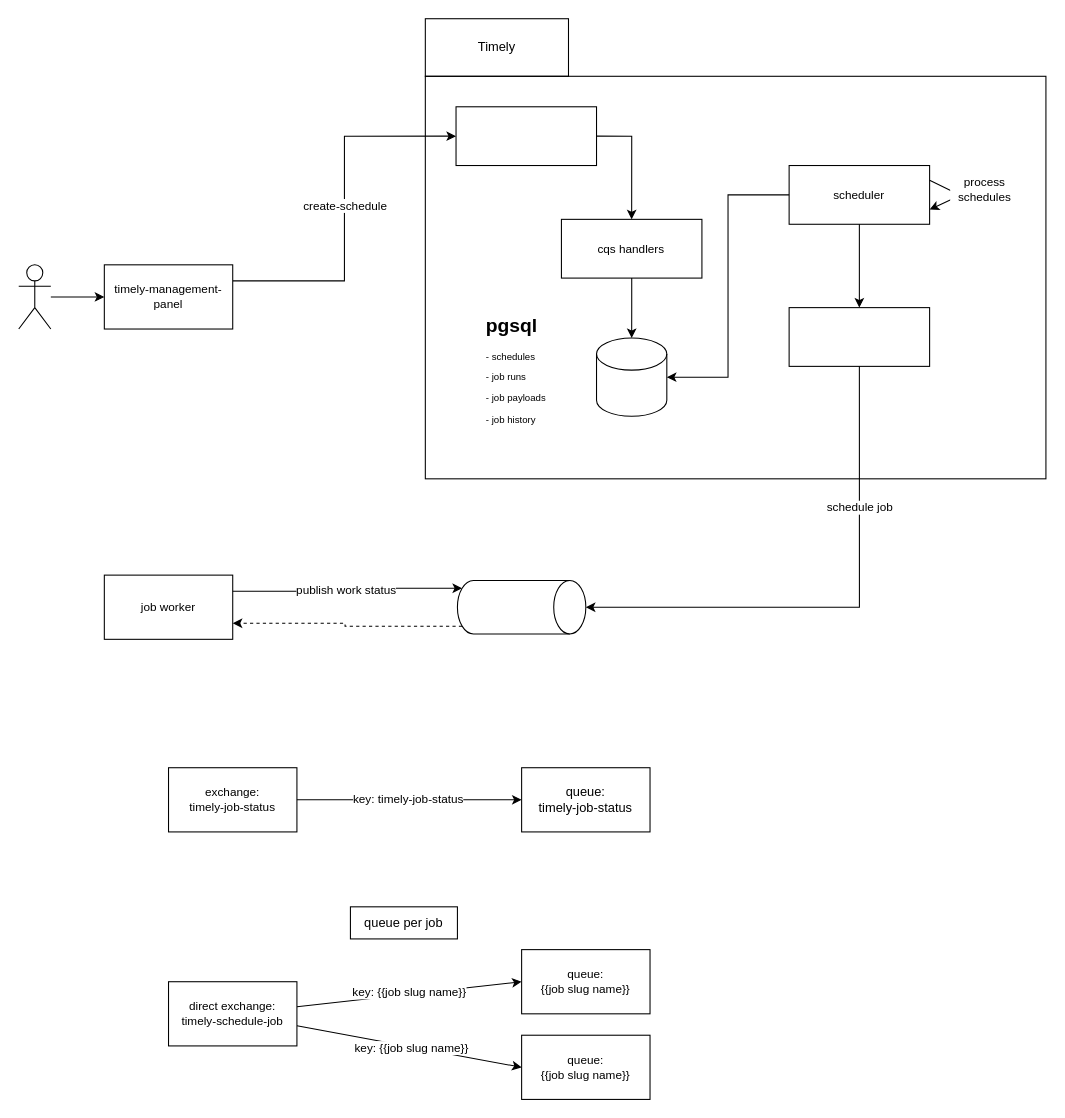
Some shapes in this 1065 by 1118 pixel diagram are drawn without their labels. The centre of each missing label's shape, as x and y in pixels:
"Actor" belongs at pixel 34 296.
"http-server" belongs at pixel 526 136.
"pgsql" belongs at pixel 631 376.
"rabbitmq" belongs at pixel 521 606.
"rabbitmq connector" belongs at pixel 859 336.
